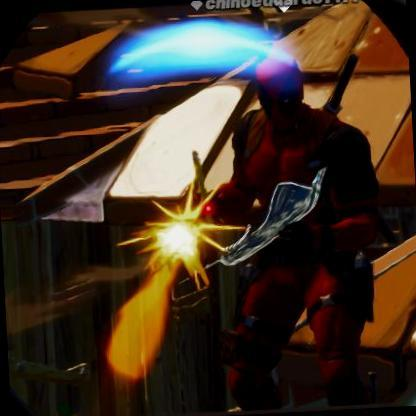person: (201, 67, 401, 404)
